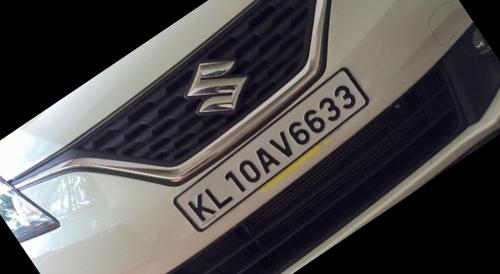plate: (162, 53, 403, 244)
